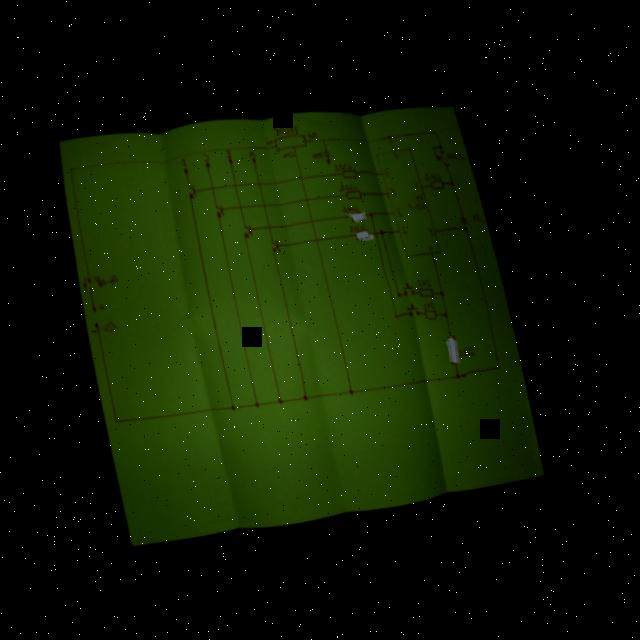capacitor: (457, 211, 465, 220), (320, 146, 329, 154)
crossover: (234, 199, 241, 210), (257, 198, 265, 207), (262, 219, 269, 229), (295, 171, 303, 179), (252, 177, 260, 185), (309, 232, 316, 241), (229, 178, 236, 187), (206, 182, 213, 190), (369, 226, 375, 234), (306, 214, 311, 222), (301, 192, 306, 199)
ground: (322, 154, 330, 162)
junction: (340, 383, 350, 394), (434, 285, 442, 294), (296, 390, 304, 399), (271, 394, 278, 403), (64, 162, 71, 171), (449, 368, 456, 377), (248, 398, 255, 406), (436, 139, 443, 146), (383, 130, 390, 137), (491, 359, 497, 367), (376, 225, 381, 233), (460, 221, 466, 227), (318, 133, 324, 139), (439, 308, 445, 314), (392, 288, 398, 294), (365, 207, 371, 213), (431, 125, 436, 132), (225, 401, 230, 408), (447, 176, 452, 182), (428, 140, 433, 146), (390, 310, 395, 316), (108, 416, 113, 422)
resistor: (440, 329, 455, 362), (430, 144, 447, 165), (345, 206, 364, 221), (350, 224, 368, 238), (413, 281, 431, 295), (418, 303, 435, 317), (342, 185, 360, 198), (338, 164, 355, 177), (427, 174, 443, 187)
switch: (400, 298, 417, 314), (77, 273, 90, 293), (397, 277, 411, 294)
terminal: (179, 164, 187, 173), (224, 155, 232, 164), (88, 319, 96, 327), (202, 159, 209, 168), (87, 304, 94, 311), (249, 154, 254, 162)
text: (402, 188, 425, 210), (89, 270, 116, 287), (269, 119, 299, 134), (452, 341, 471, 355), (335, 177, 355, 190), (96, 317, 113, 332), (444, 146, 463, 158), (420, 167, 438, 178), (338, 200, 355, 211), (345, 219, 363, 229), (412, 273, 427, 284), (331, 159, 349, 168), (278, 146, 293, 156), (418, 296, 431, 306), (469, 208, 480, 219), (309, 148, 322, 157), (305, 126, 316, 136), (392, 202, 401, 214), (423, 238, 432, 249), (262, 132, 270, 143), (379, 162, 387, 173), (387, 182, 394, 194), (424, 222, 431, 234), (390, 147, 398, 157), (177, 154, 184, 165), (397, 221, 404, 232), (246, 146, 254, 155), (200, 150, 207, 159), (412, 177, 417, 188), (224, 147, 229, 155)
transistor: (183, 179, 196, 198), (237, 220, 250, 237), (266, 236, 278, 251), (211, 200, 222, 216)
